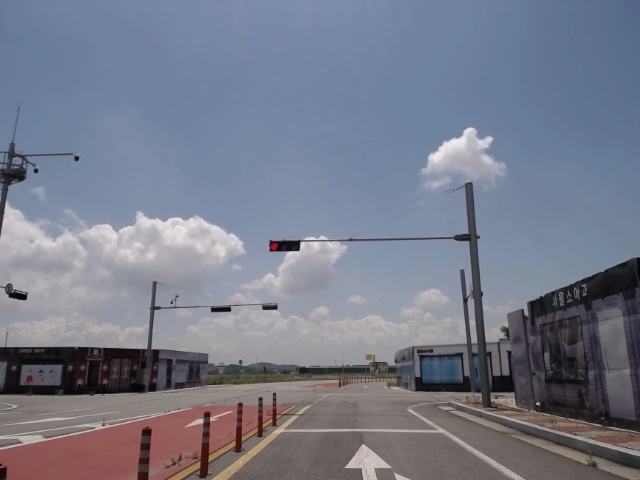red_3: (267, 240, 302, 251)
